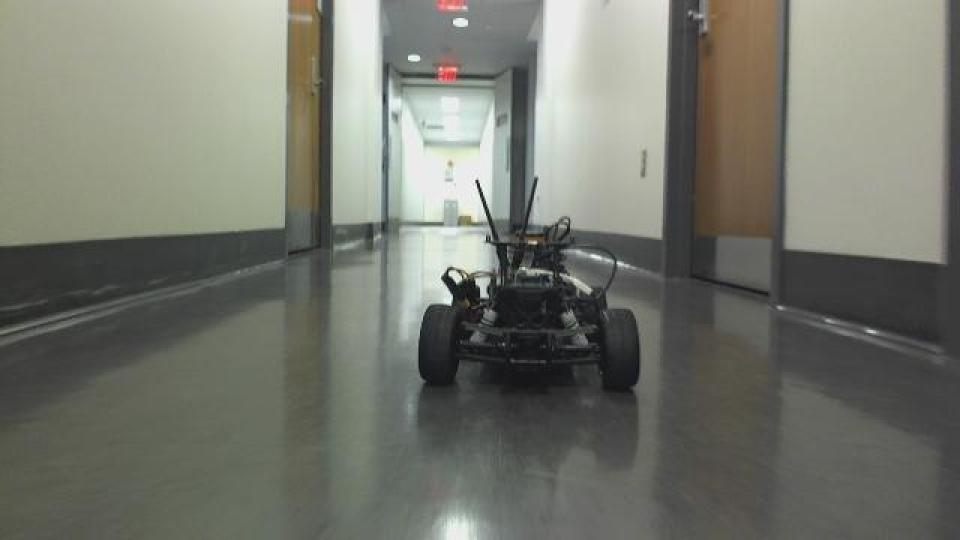car: (414, 174, 644, 393)
